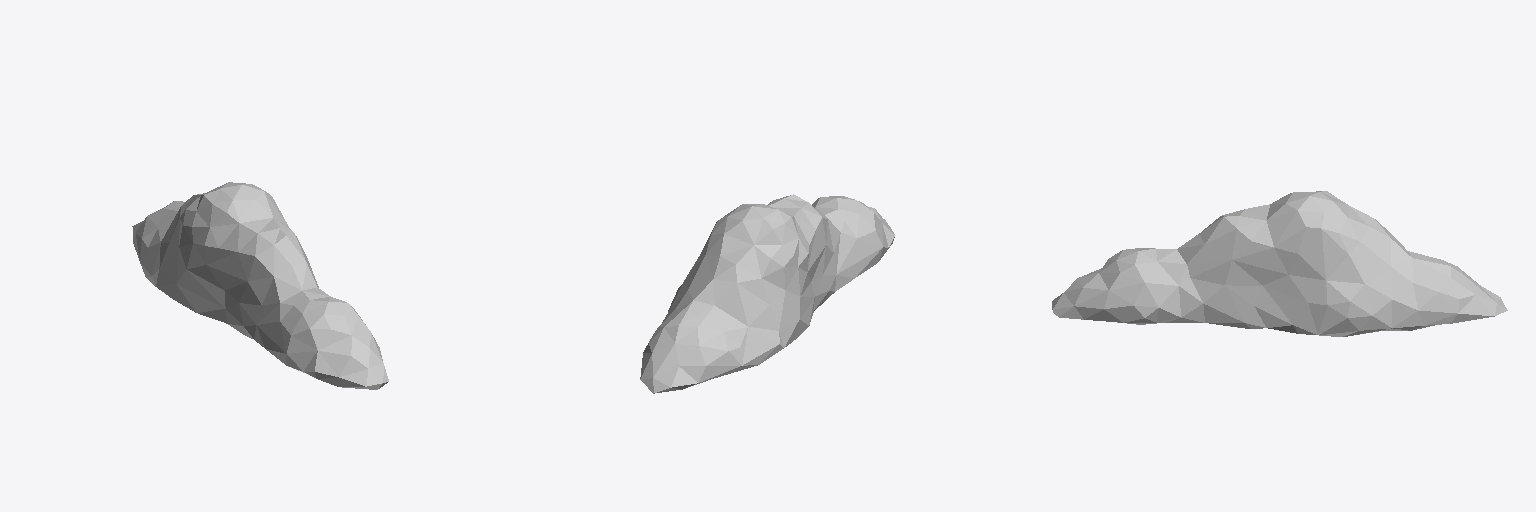
The model's file is cloud4.obj.
3 renders of one model, left to right at view 1: azimuth 30°, elevation 25°; view 2: azimuth 150°, elevation 25°; view 3: azimuth 270°, elevation 25°, orthographic.
Parts seen in each view (by area): view 1: Clouds.001; view 2: Clouds.001; view 3: Clouds.001.
Boxes of the visible parts, x1,y1,x2,y2 form: Clouds.001: [132, 182, 388, 389]; Clouds.001: [640, 194, 894, 393]; Clouds.001: [1052, 191, 1507, 336].
Size of the model in its own units: 2.27 by 2.25 by 7.69.